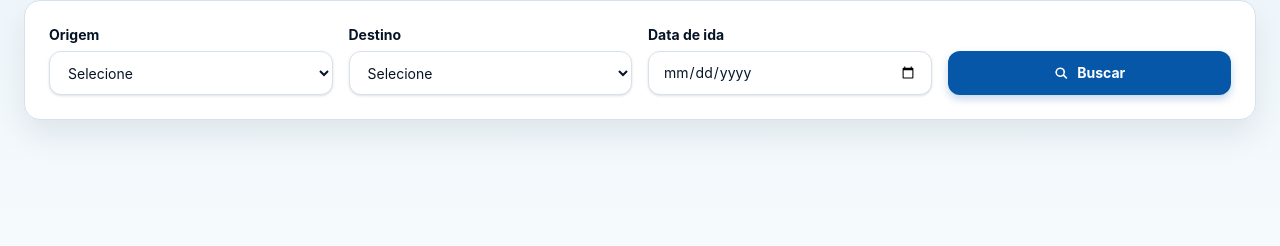
Test: SearchForm › exibe erros de validação quando os campos estão vazios
Click the button "Buscar" at (1089, 73), box [948,51,1231,95]
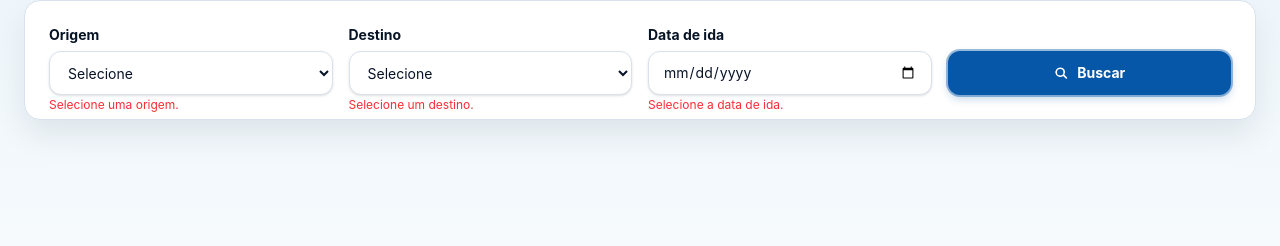
Check: the text "Selecione uma origem." is shown, box [49,97,179,113]
Check: the text "Selecione um destino." is shown, box [348,97,474,113]
Check: the text "Selecione a data de ida." is shown, box [648,97,784,113]
